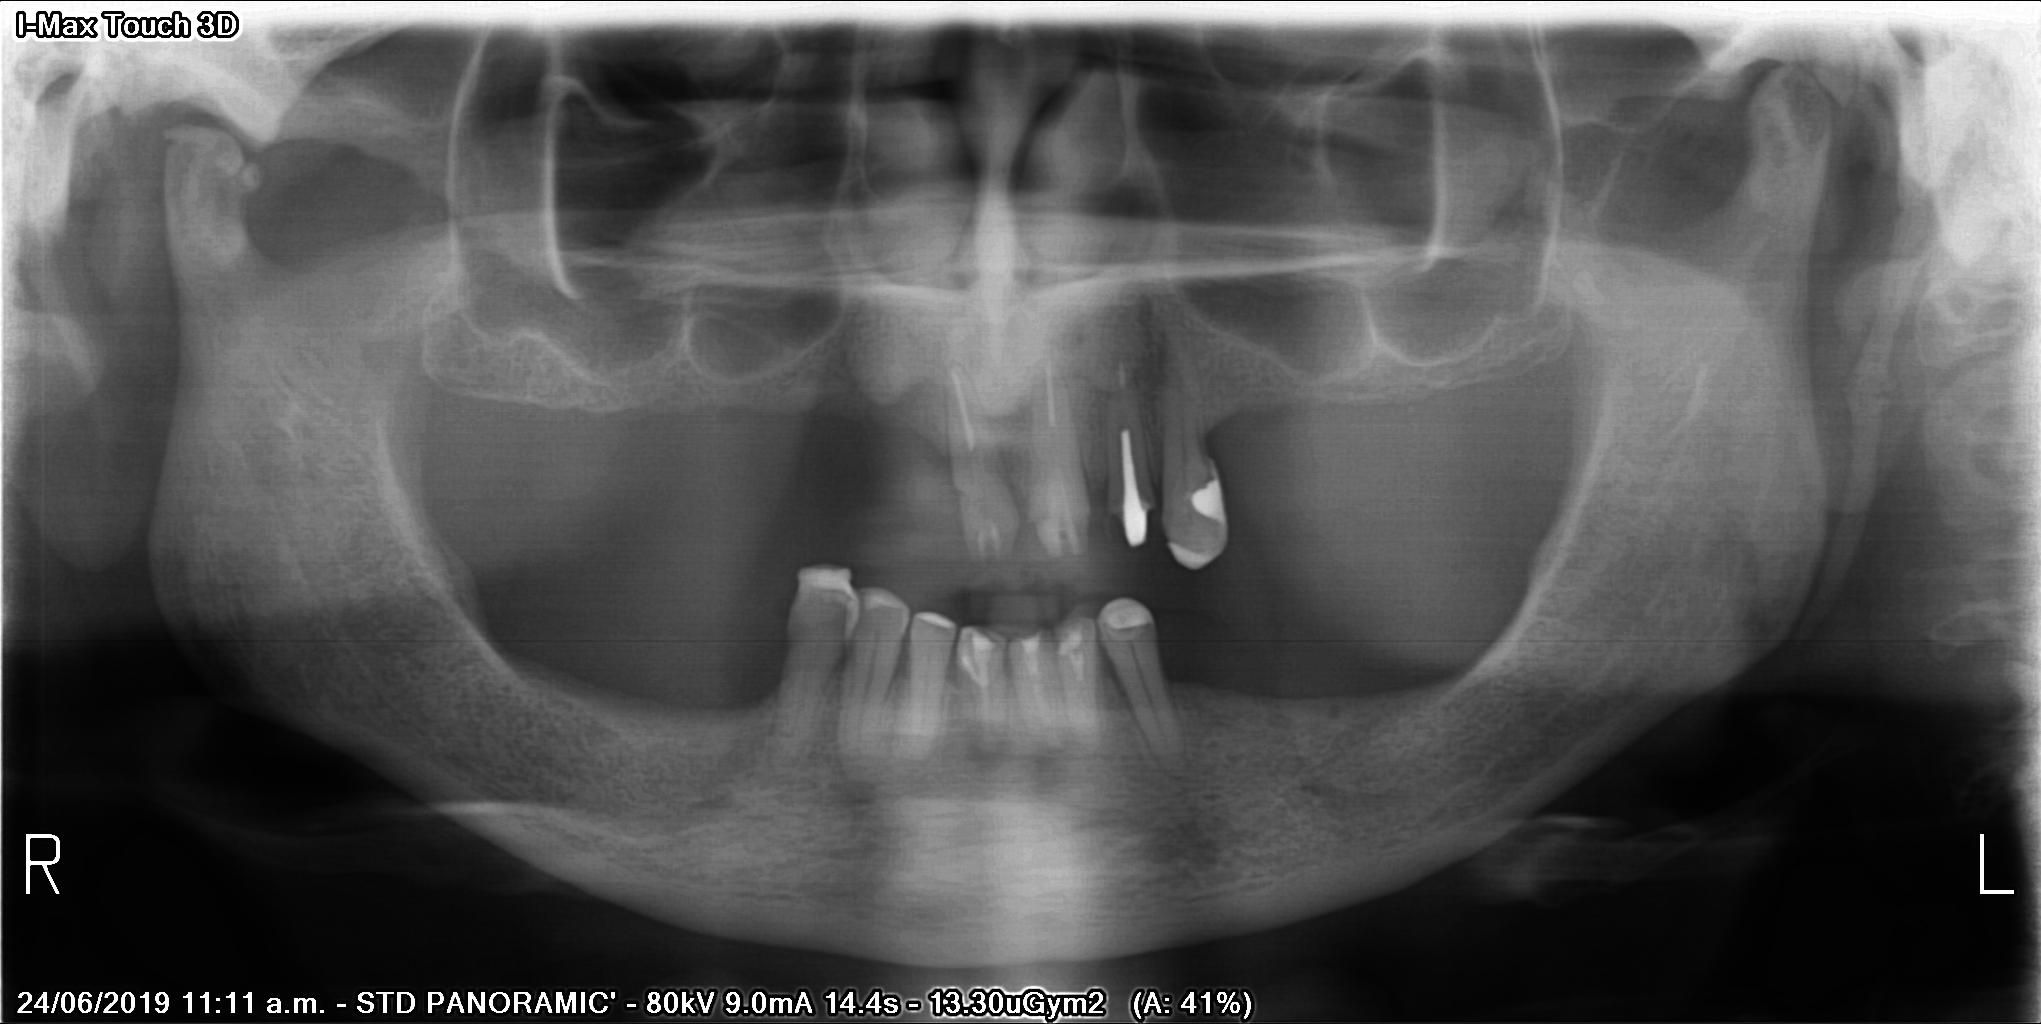Çürük: (1187, 484, 1228, 529)
